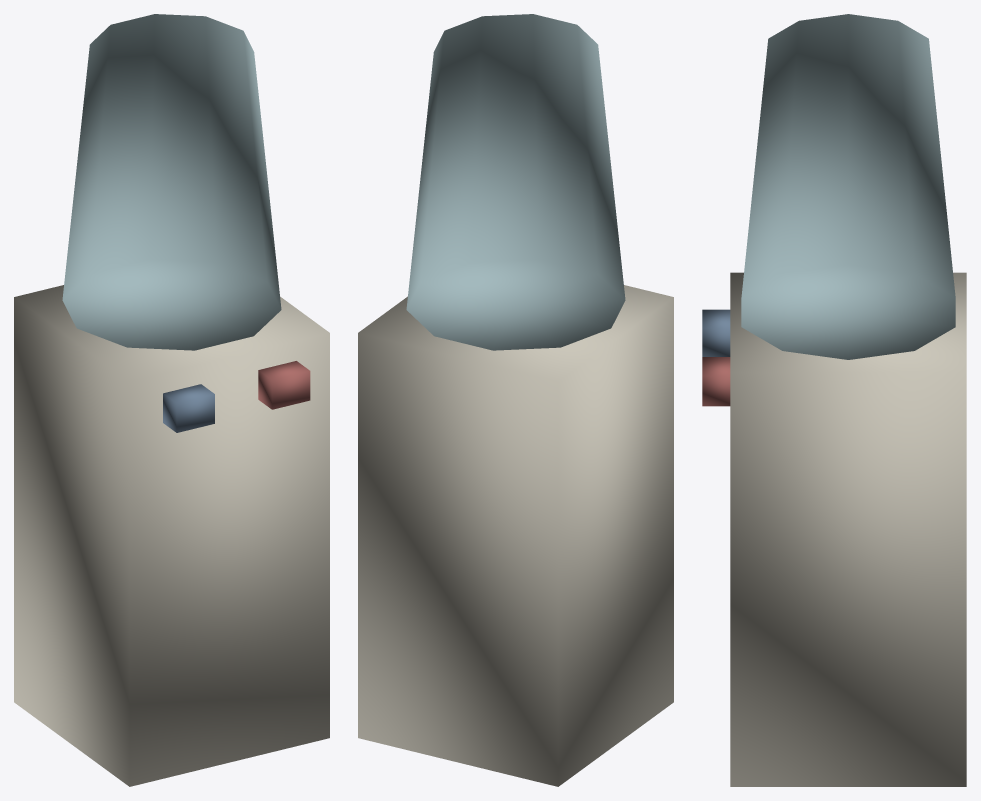
The model's file is water_cooler__reinforced.glb.
3 views of the same model, side by side, from view 1: azimuth 30°, elevation 25°; view 2: azimuth 150°, elevation 25°; view 3: azimuth 270°, elevation 25° (orthographic). The views are drawn at different scales.
Visible parts, largest first — view 1: world; view 2: world; view 3: world.
Part boxes in pixels (left/top/right/bottom): world: left=14, top=14, right=329, bottom=786; world: left=358, top=14, right=673, bottom=786; world: left=702, top=14, right=966, bottom=786.
Size of the model in its own units: 0.4326 by 1.39 by 0.4841.
